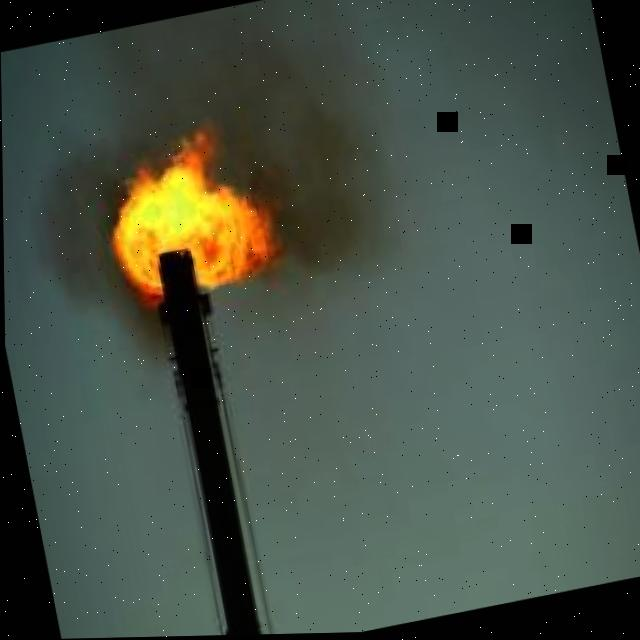fire: (108, 129, 278, 313)
smoke: (33, 0, 389, 362)
